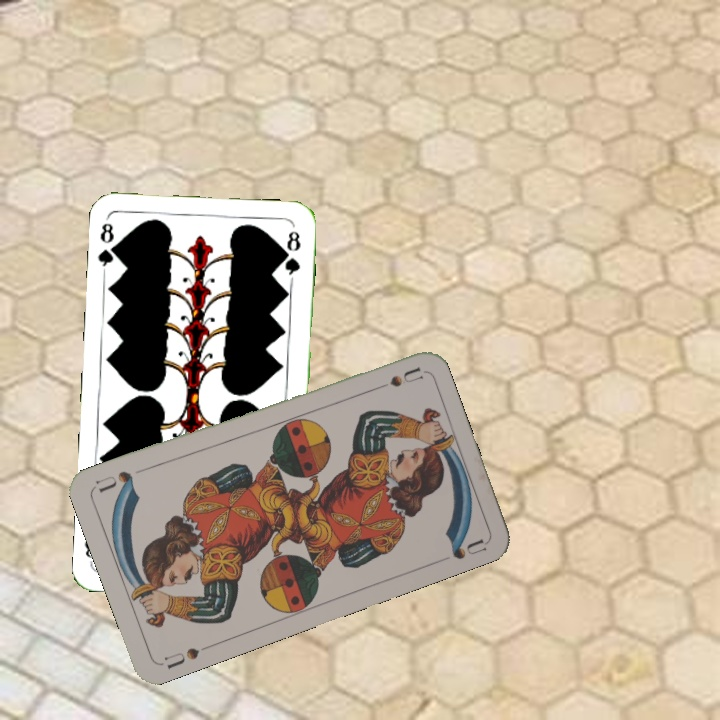G8: (94, 216, 122, 275)
SU: (366, 363, 424, 395), (160, 640, 215, 672)
